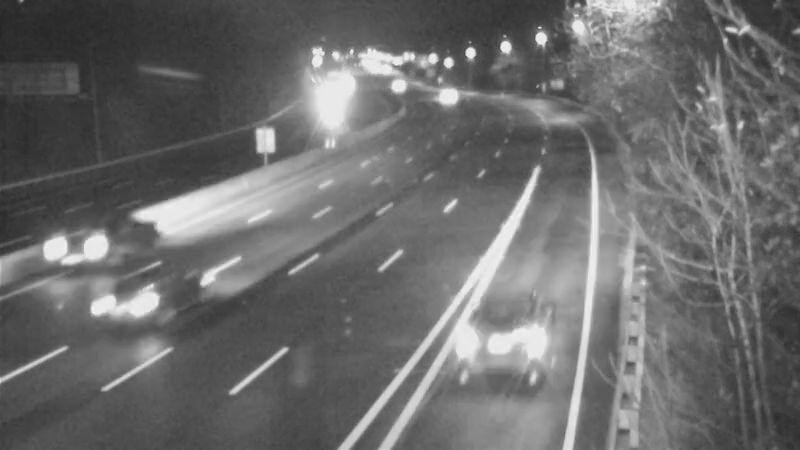vehicle: (438, 293, 548, 403), (78, 254, 188, 364), (34, 213, 114, 293), (371, 61, 421, 111), (414, 70, 464, 120), (307, 74, 357, 124)
